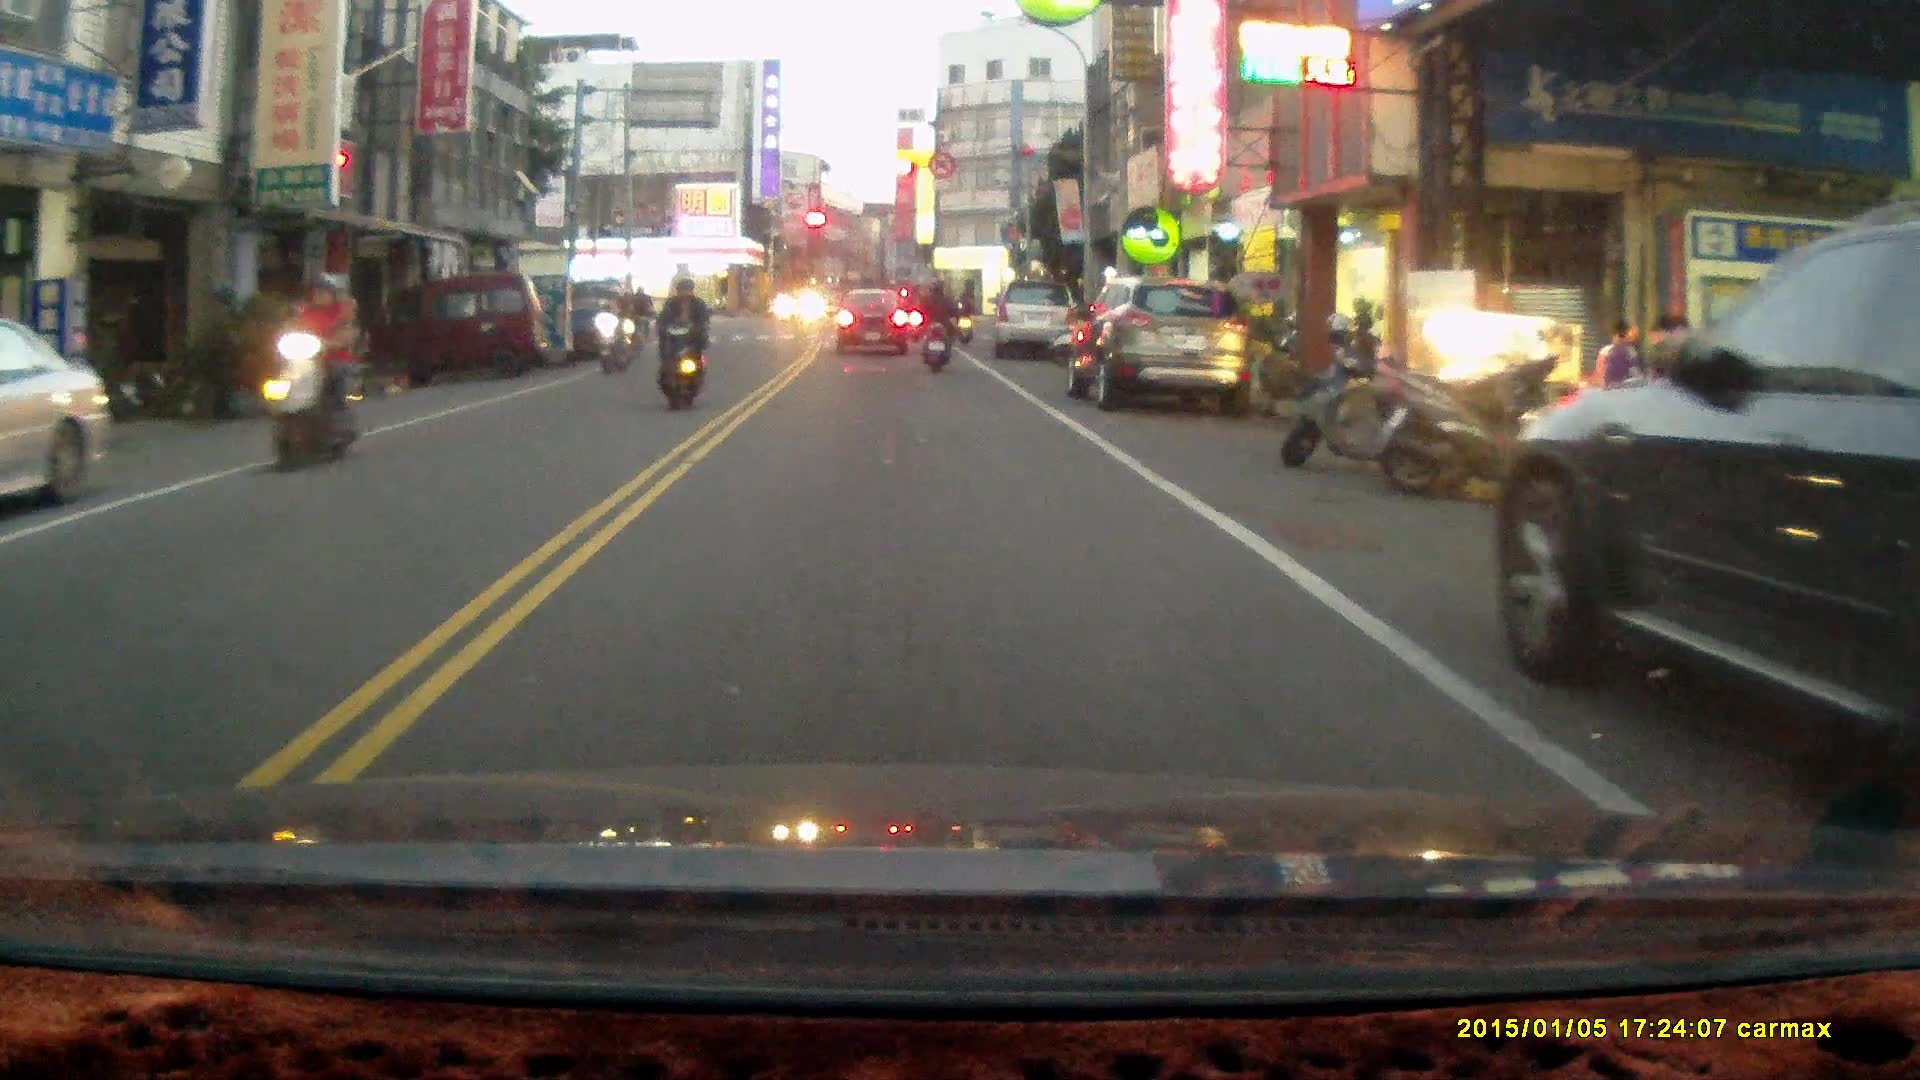pedestrian: (1594, 313, 1643, 430)
rider: (262, 267, 365, 475), (646, 273, 707, 410), (914, 275, 955, 374), (592, 281, 634, 376), (621, 275, 655, 356), (900, 282, 926, 342), (953, 289, 974, 346)
vehicle: (1485, 199, 1920, 801), (1067, 278, 1253, 412), (1, 315, 108, 522), (371, 272, 553, 382), (998, 276, 1079, 358)
